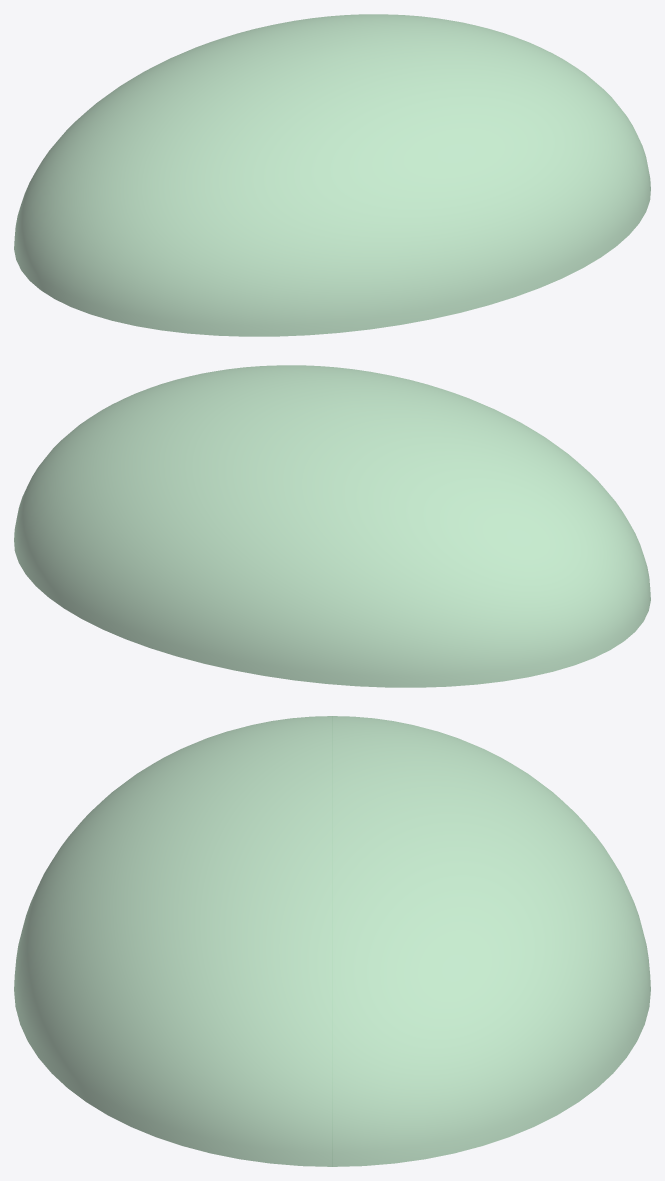
Rendered from chrysoprase.glb.
The picture shows the model from 3 angles, top to bottom: view 1: azimuth 30°, elevation 25°; view 2: azimuth 150°, elevation 25°; view 3: azimuth 270°, elevation 25°; orthographic projection. The views are drawn at different scales.
Parts seen in each view (by area): view 1: chrysoprase; view 2: chrysoprase; view 3: chrysoprase.
Boxes of the visible parts, box(x1,y1,x2,y2) form: chrysoprase: box(14, 14, 650, 336); chrysoprase: box(14, 365, 650, 687); chrysoprase: box(14, 716, 650, 1166).
Size of the model in its own units: 0.25 by 0.0688 by 0.19.
